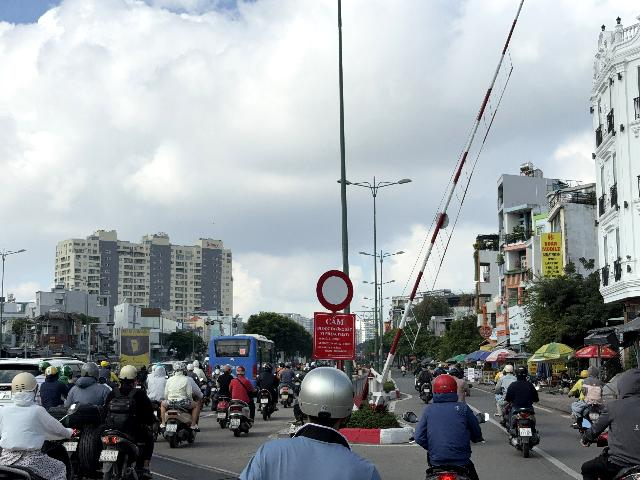duong-cam: (316, 270, 353, 312)
